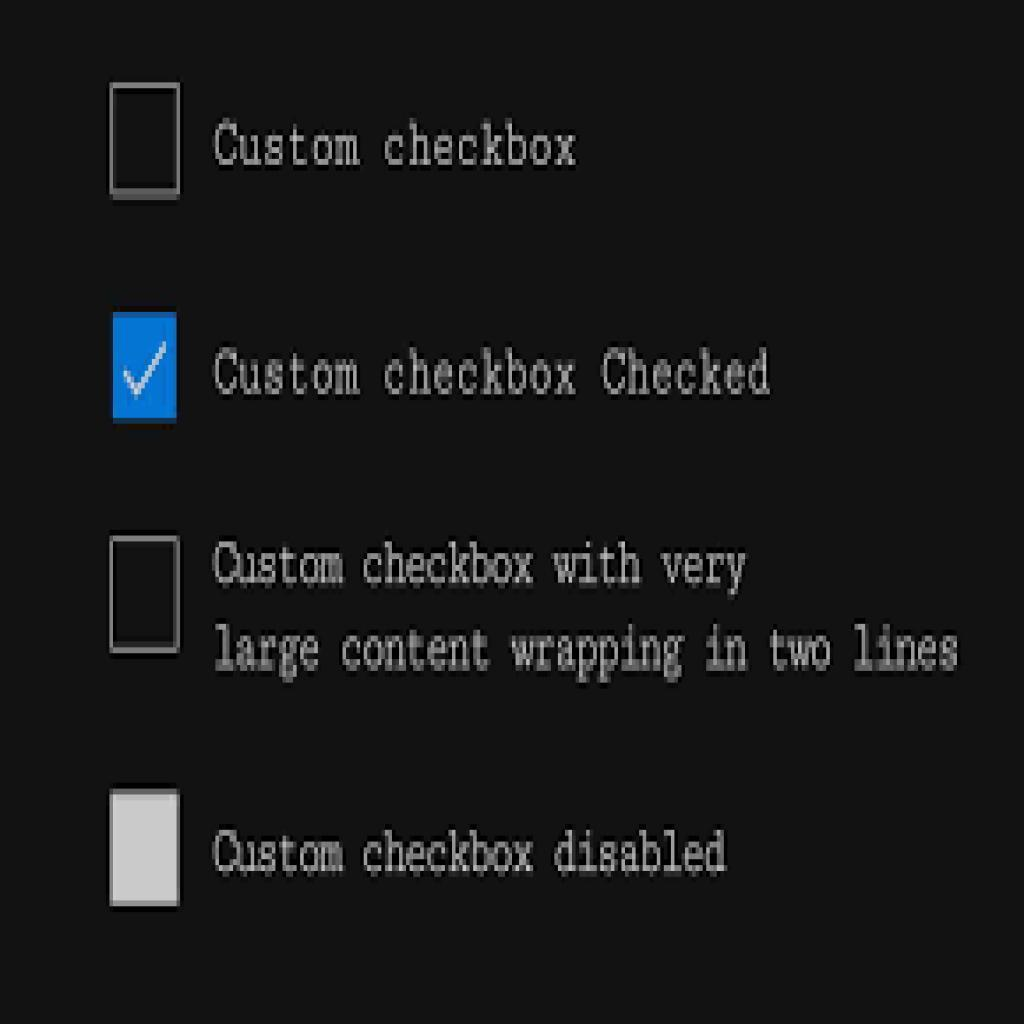checkbox: (109, 790, 183, 907), (109, 83, 182, 200), (110, 536, 182, 654), (114, 313, 178, 422)
label: (208, 530, 964, 685), (207, 820, 743, 889), (214, 342, 780, 405), (209, 110, 585, 182)
